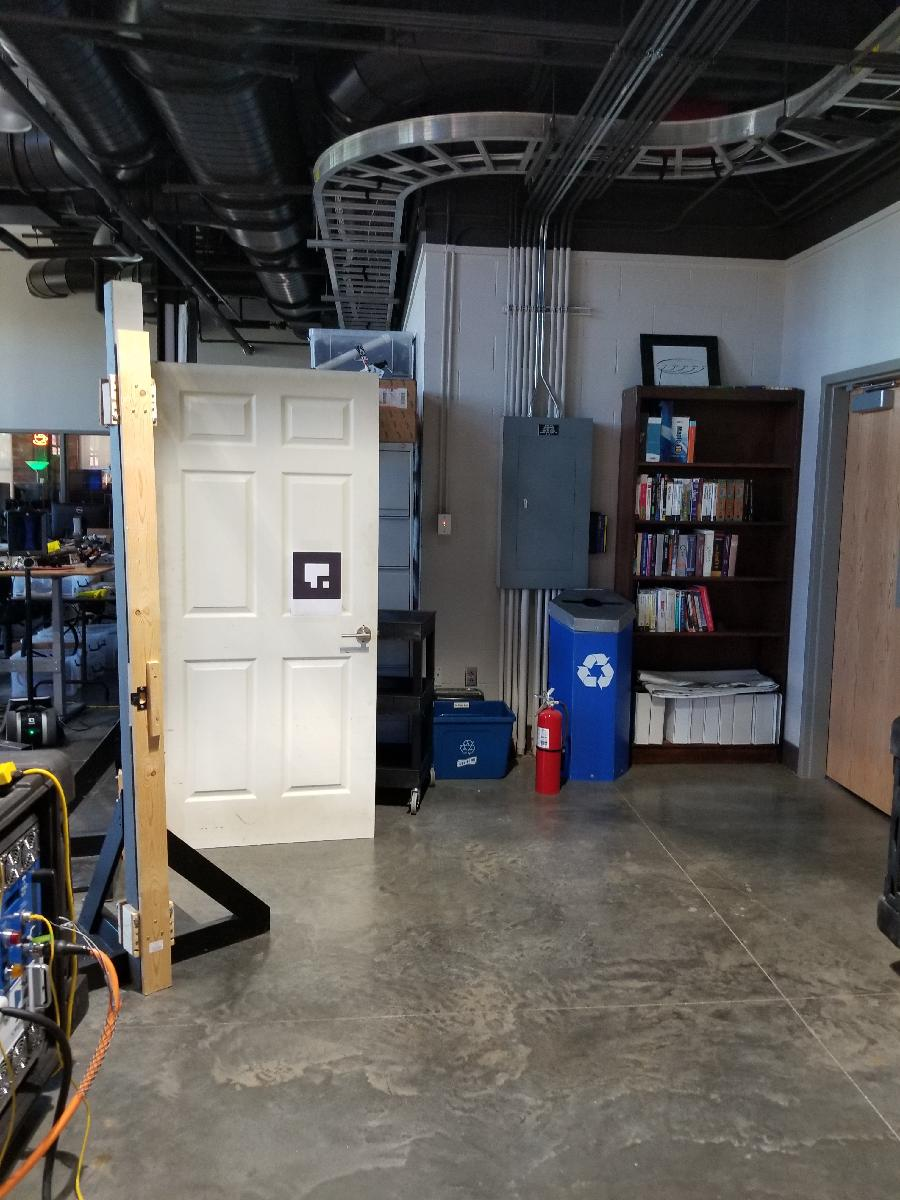door: (137, 357, 388, 852)
doorHandle: (339, 628, 373, 649)
